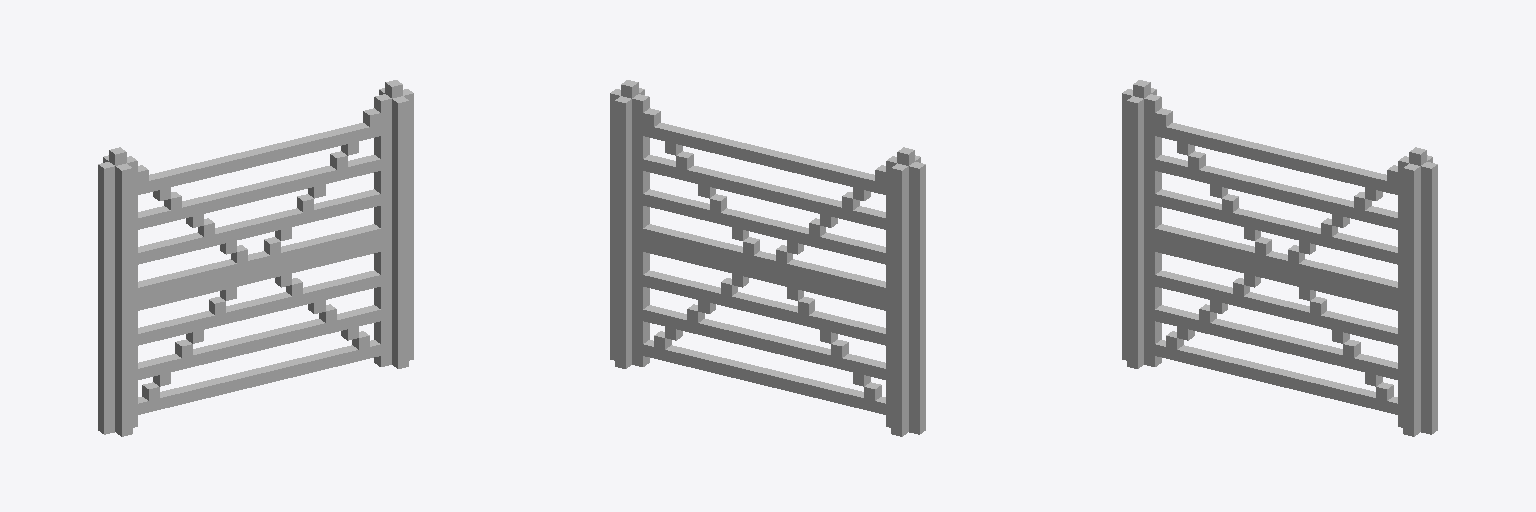
The model's file is fence.obj.
3 renders of one model, left to right at view 1: azimuth 30°, elevation 25°; view 2: azimuth 150°, elevation 25°; view 3: azimuth 330°, elevation 25°, orthographic.
Parts seen in each view (by area): view 1: object 1; view 2: object 1; view 3: object 1.
Part boxes in pixels (left/top/right/bottom): object 1: left=98, top=80, right=413, bottom=436; object 1: left=610, top=80, right=925, bottom=436; object 1: left=1122, top=80, right=1437, bottom=436.
Bounding box in the file's own units: 2.8 × 2.4 × 0.3.